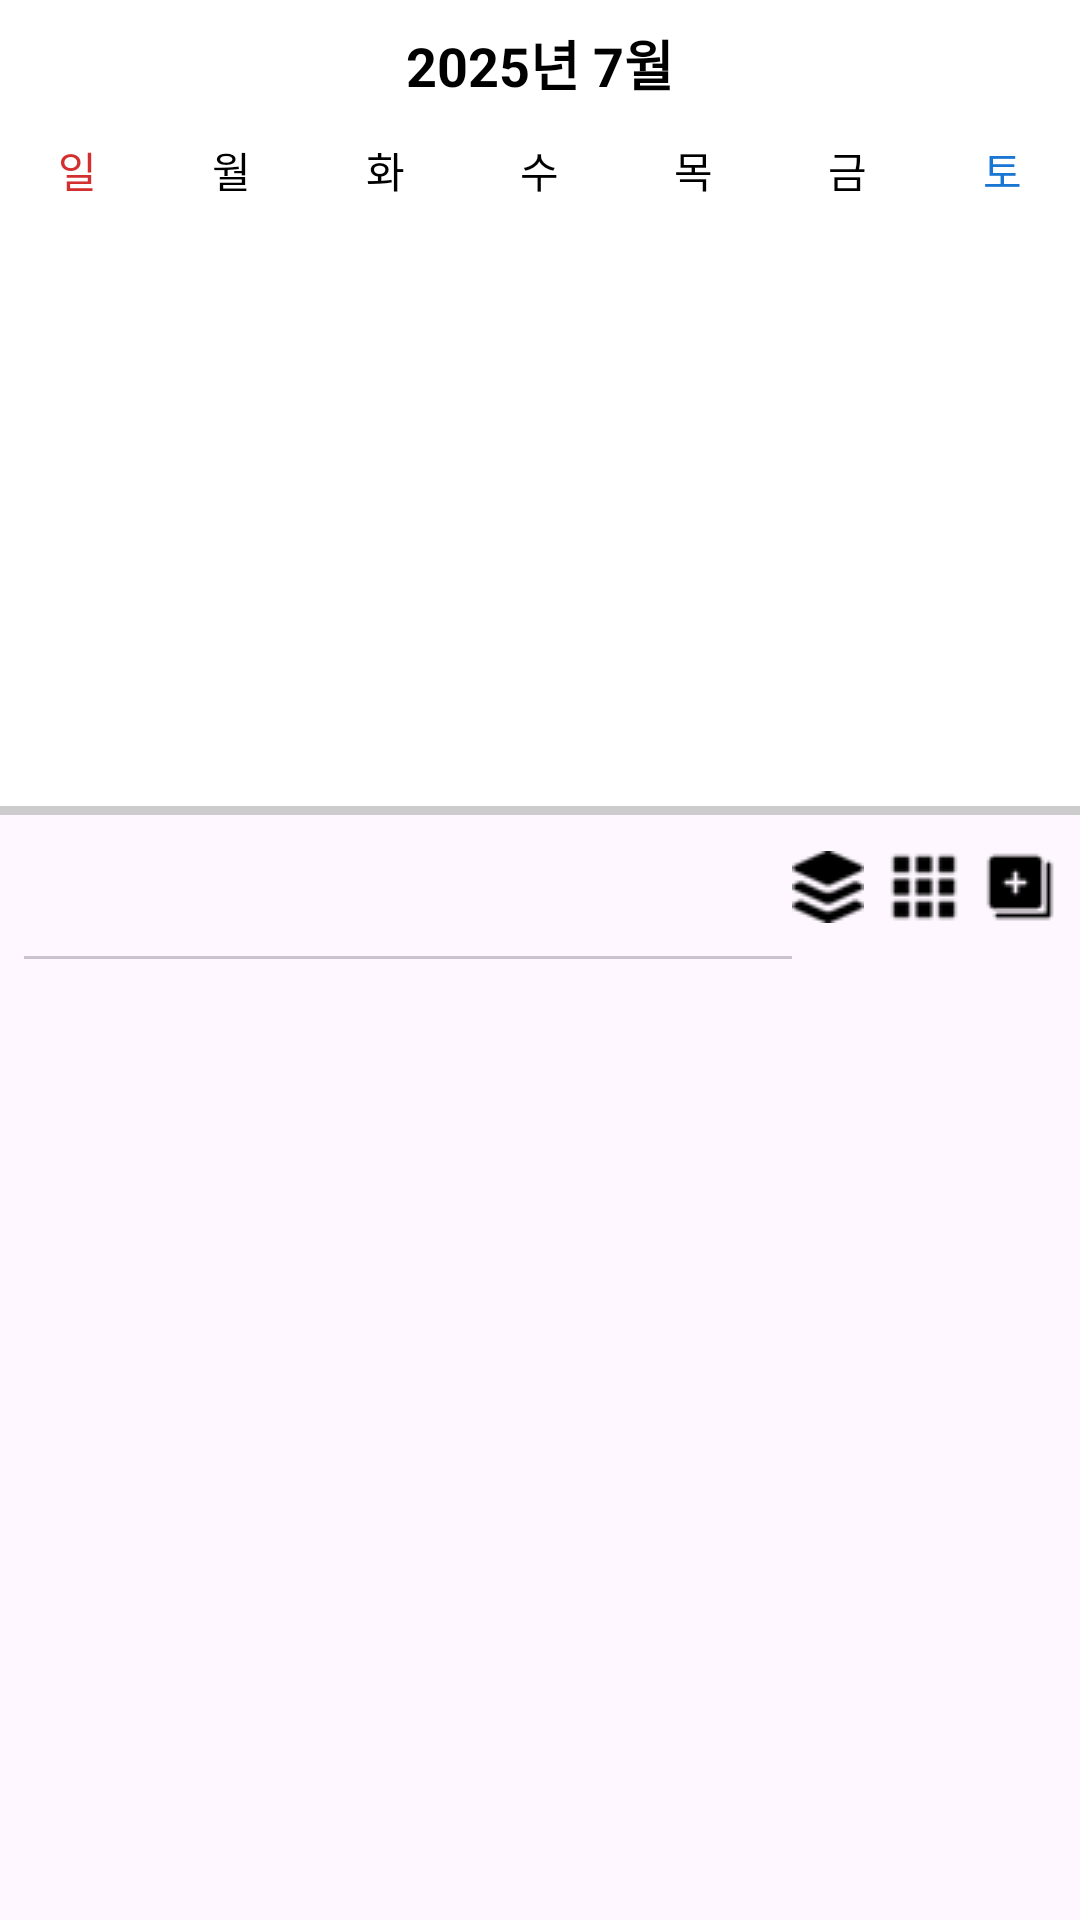

Screen size 1080 x 1920. Icon name, then its box in pixels as region(x1, y1, x2, y2):
그리드보기: region(891, 854, 957, 920)
기본보기: region(792, 851, 864, 923)
이미지 추가하기: region(987, 853, 1054, 921)
